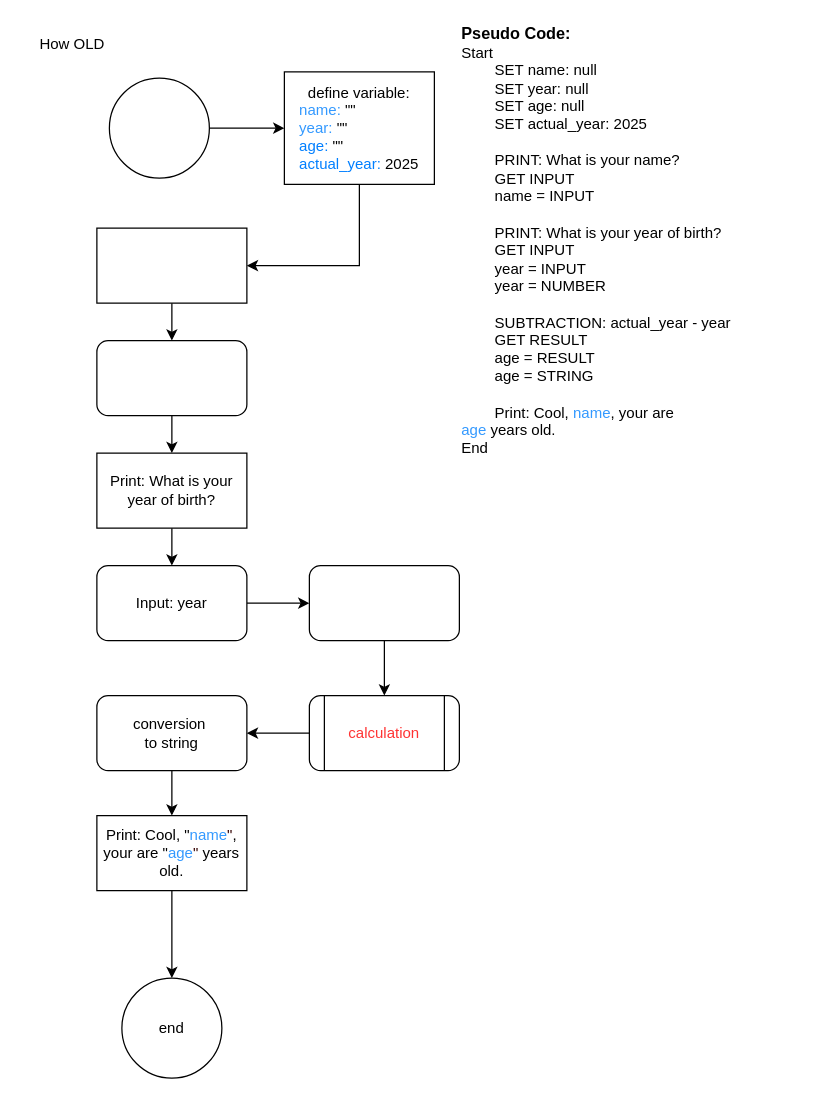
Some shapes in this 818 by 1100 pixel diagram are drawn without their labels. The shapes that lost their labels are listed below. From the top down, each one's centre as x and y in pixels, then its label:
(158,127): start
(171,265): Print: What is your name?
(171,377): Input: name
(383,602): conversion to number
